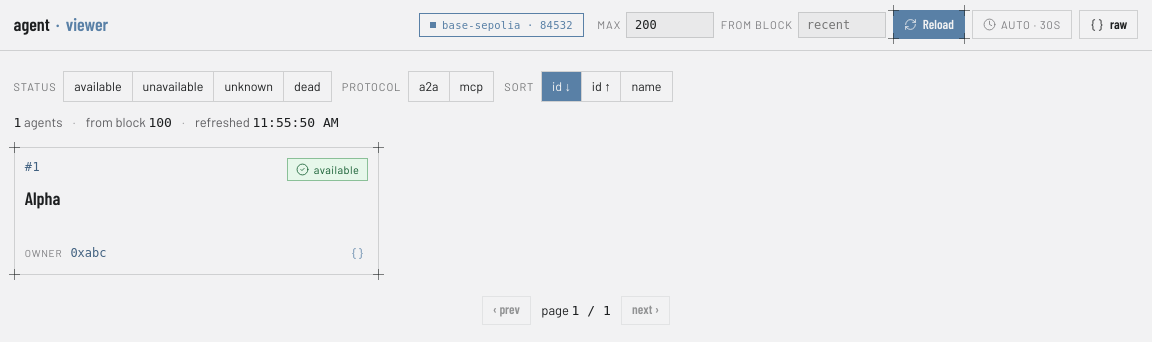
Test: App › filters out agents whose status is not selected
Expected: the text "Alpha" is shown, [25, 187, 60, 209]
Click the checkbox labelled "dead": (307, 87) [283, 72, 331, 101]
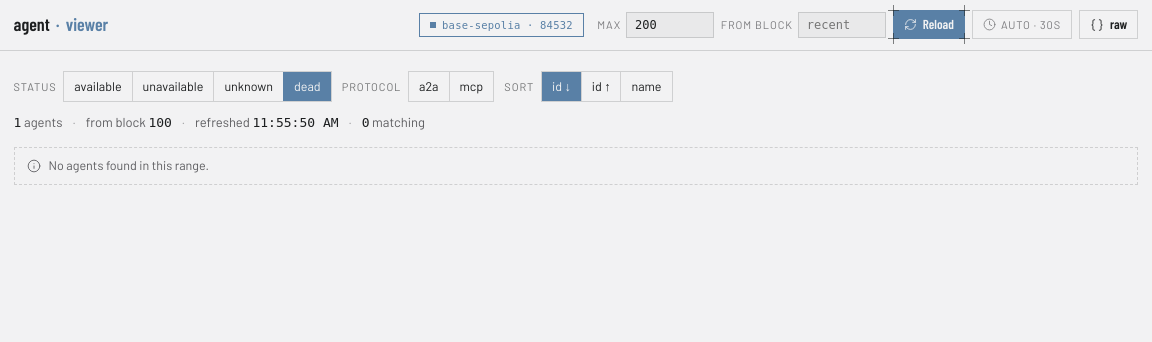
Expected: the button "Alpha" is gone
Expected: the text "No agents found in this range." is shown, [49, 156, 209, 176]
Click the checkbox labelled "dead": (307, 87) [283, 72, 331, 101]
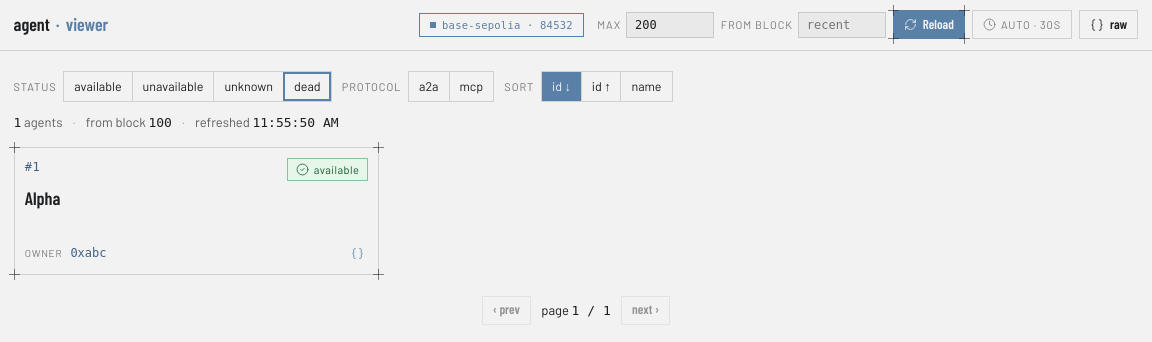
Expected: the text "Alpha" is shown, [25, 187, 60, 209]
